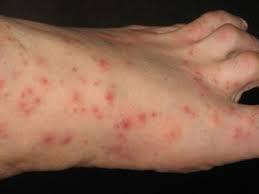Bed Bugs: (12, 81, 47, 118), (112, 110, 150, 134), (39, 129, 77, 145), (103, 139, 131, 160), (66, 90, 88, 116), (95, 55, 113, 73), (180, 102, 198, 120), (189, 69, 206, 87), (86, 75, 102, 91), (0, 122, 12, 141), (229, 125, 243, 141), (33, 56, 50, 69), (91, 107, 104, 120), (180, 56, 193, 68), (104, 90, 114, 103), (55, 79, 69, 87), (68, 64, 79, 74), (124, 61, 134, 69), (40, 77, 49, 83)
